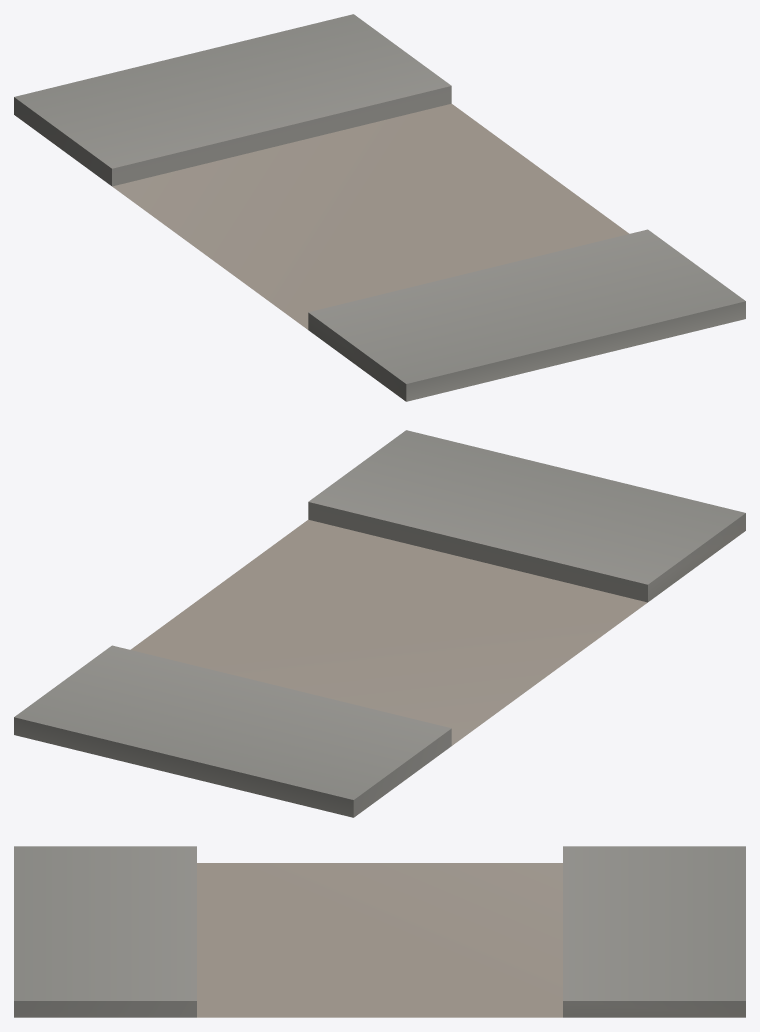
File: road-dirt-straight.glb
3 views of the same model, one above another, from view 1: azimuth 30°, elevation 25°; view 2: azimuth 150°, elevation 25°; view 3: azimuth 270°, elevation 25° (orthographic). The views are drawn at different scales.
Parts seen in each view (by area): view 1: road-dirt-straight; view 2: road-dirt-straight; view 3: road-dirt-straight.
Part boxes in pixels (x1,y1,x2,y2): road-dirt-straight: (14,14,745,401); road-dirt-straight: (14,430,745,817); road-dirt-straight: (14,846,745,1017).
Bounding box in the file's own units: 1 × 0.05 × 2.
